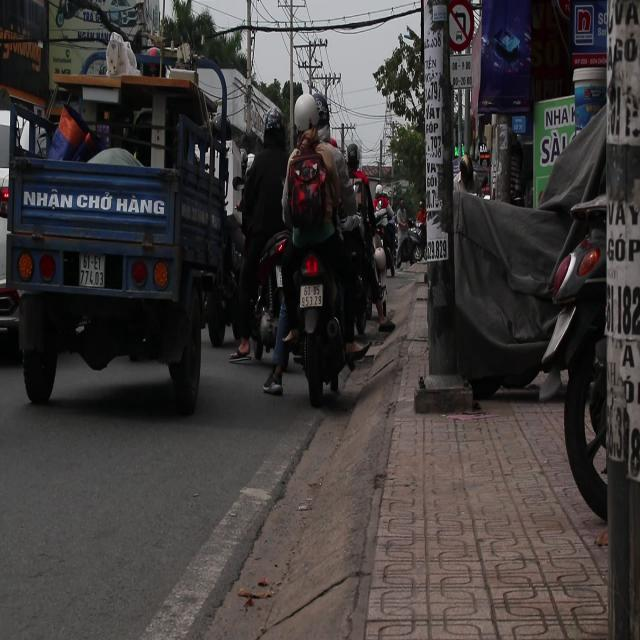motorbike: (268, 178, 358, 432), (232, 180, 307, 393), (328, 206, 402, 370), (354, 157, 400, 292)
